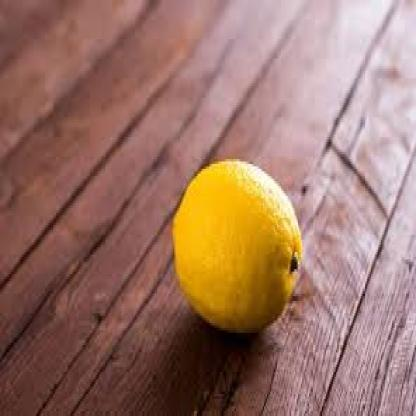lemon: (170, 159, 303, 334)
